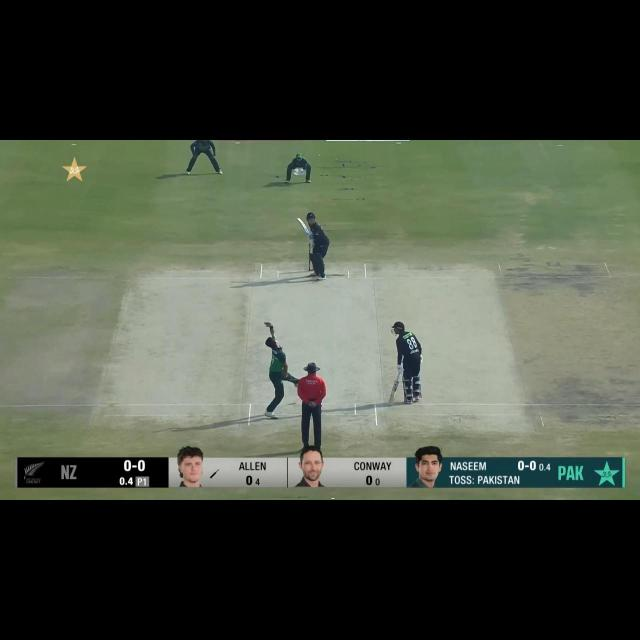bat: (387, 379, 400, 407), (296, 217, 310, 236)
toe: (294, 215, 304, 224), (386, 398, 396, 407)
